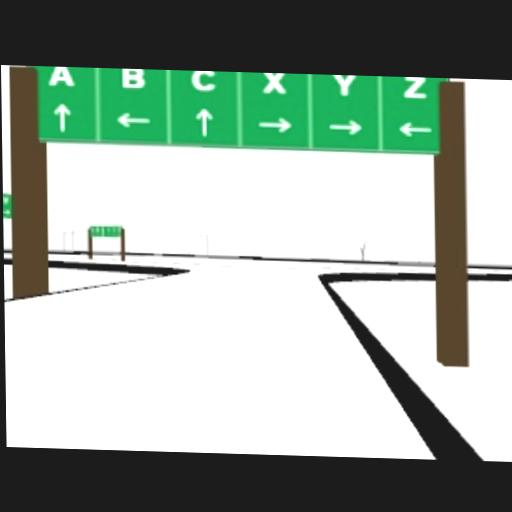A: (47, 66, 75, 86)
B: (120, 68, 144, 88)
C: (190, 71, 216, 91)
Left: (396, 121, 432, 137), (115, 112, 151, 127)
Right: (258, 117, 292, 133), (328, 119, 362, 135)
Straight: (194, 106, 213, 136), (53, 102, 70, 132)
X: (262, 73, 286, 93)
Y: (332, 75, 356, 96)
Z: (402, 77, 428, 98)
